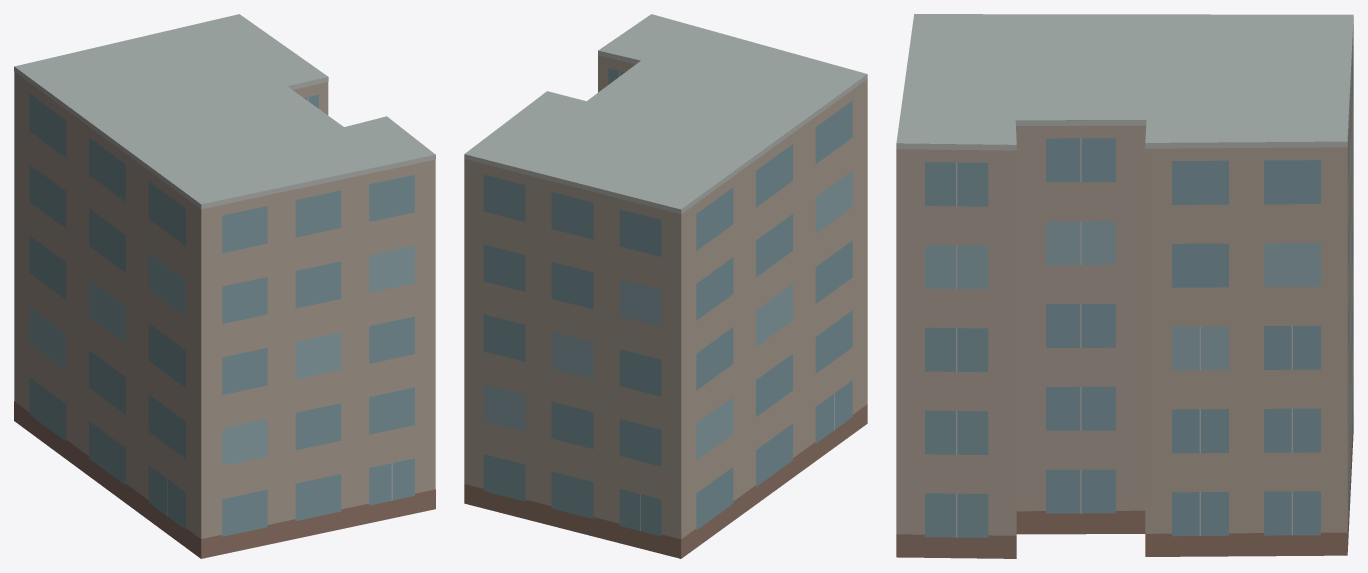
The model's file is survey-upis-32572835.glb.
The picture shows the model from 3 angles, left to right: view 1: azimuth 30°, elevation 25°; view 2: azimuth 150°, elevation 25°; view 3: azimuth 270°, elevation 25°; orthographic projection. The views are drawn at different scales.
Visible parts, largest first — view 1: survey-upis-32572835.tmp; view 2: survey-upis-32572835.tmp; view 3: survey-upis-32572835.tmp.
Part boxes in pixels (bbox=[...]): survey-upis-32572835.tmp: bbox=[14, 14, 435, 558]; survey-upis-32572835.tmp: bbox=[464, 14, 867, 558]; survey-upis-32572835.tmp: bbox=[896, 14, 1353, 558].
Size of the model in its own units: 11.94 by 17.6 by 17.63.
